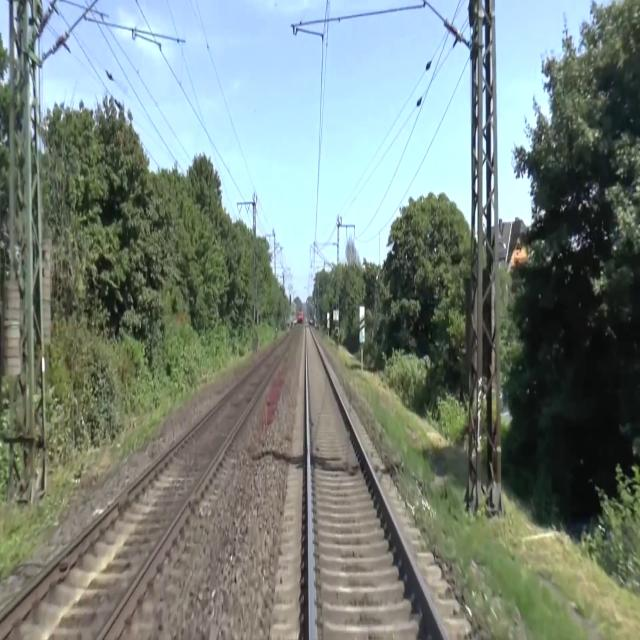rail-track: (0, 332, 292, 639), (307, 324, 443, 639)
